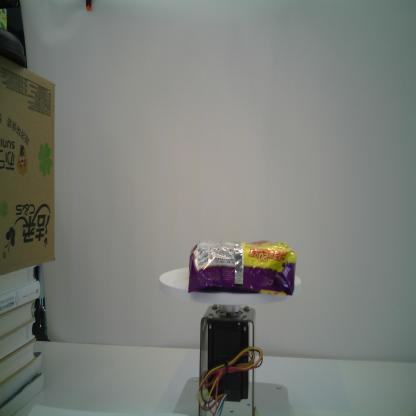Instant Noodles: (188, 234, 298, 300)
